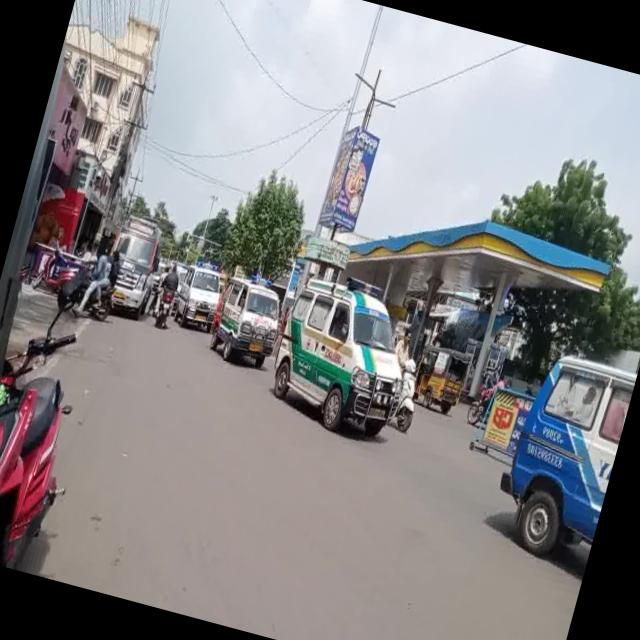ambulance: (505, 351, 634, 547), (264, 271, 422, 428), (202, 274, 286, 369), (101, 215, 162, 316)
